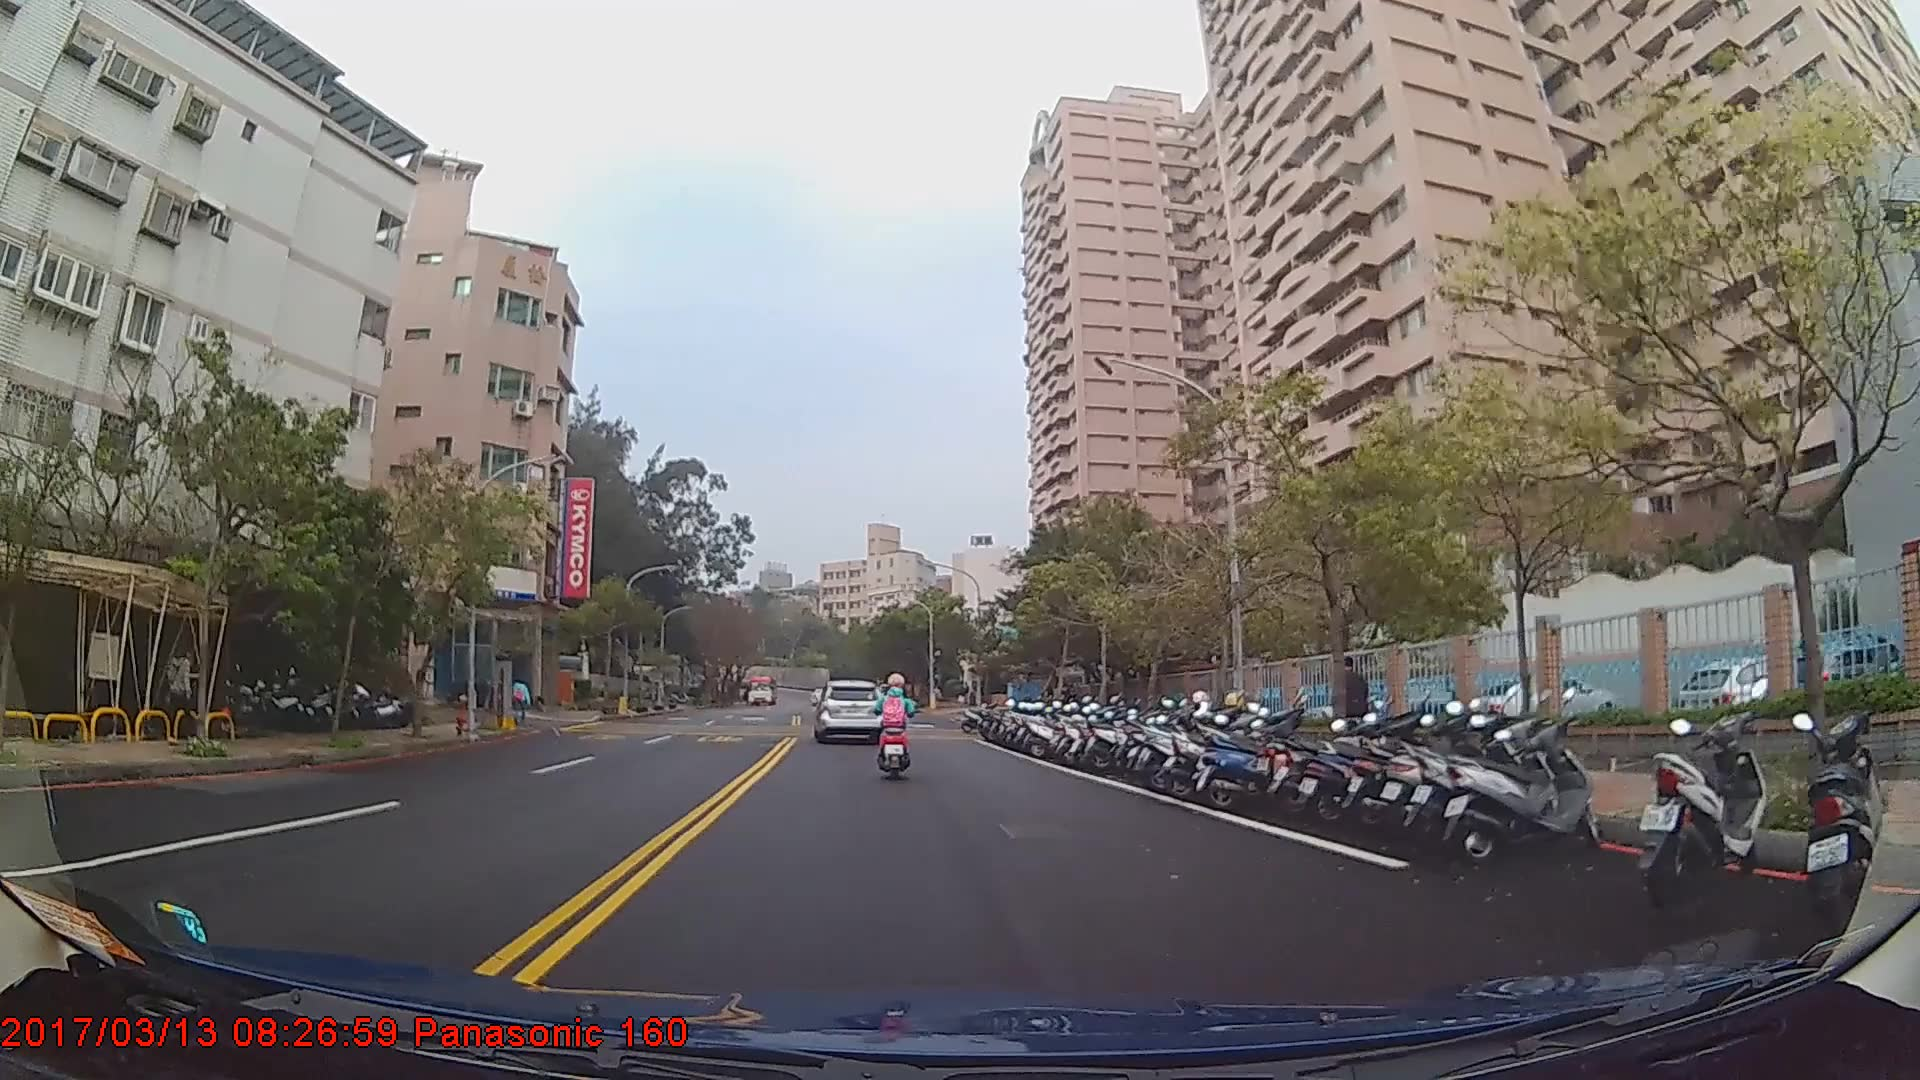pedestrian: (1329, 654, 1375, 758), (163, 638, 194, 747), (508, 674, 533, 726)
rider: (872, 673, 918, 783)
vehicle: (815, 676, 883, 743), (743, 672, 777, 706)
